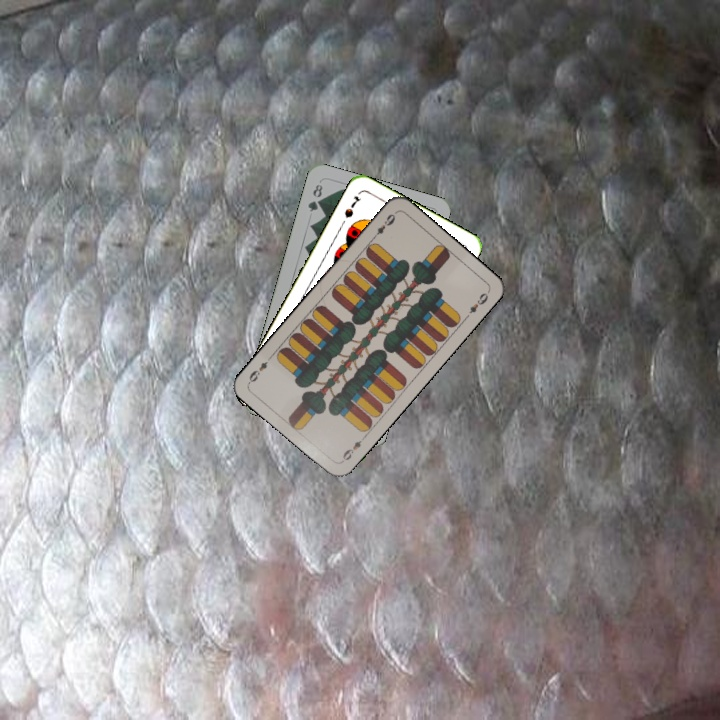E9: (338, 431, 369, 465), (368, 208, 398, 242)
G8: (304, 180, 325, 214)
S7: (340, 192, 364, 221)
